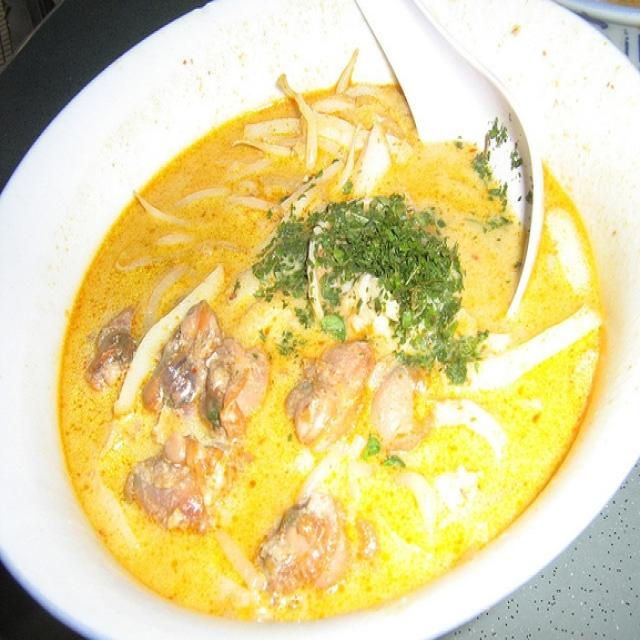面条主食: (23, 40, 626, 628)
